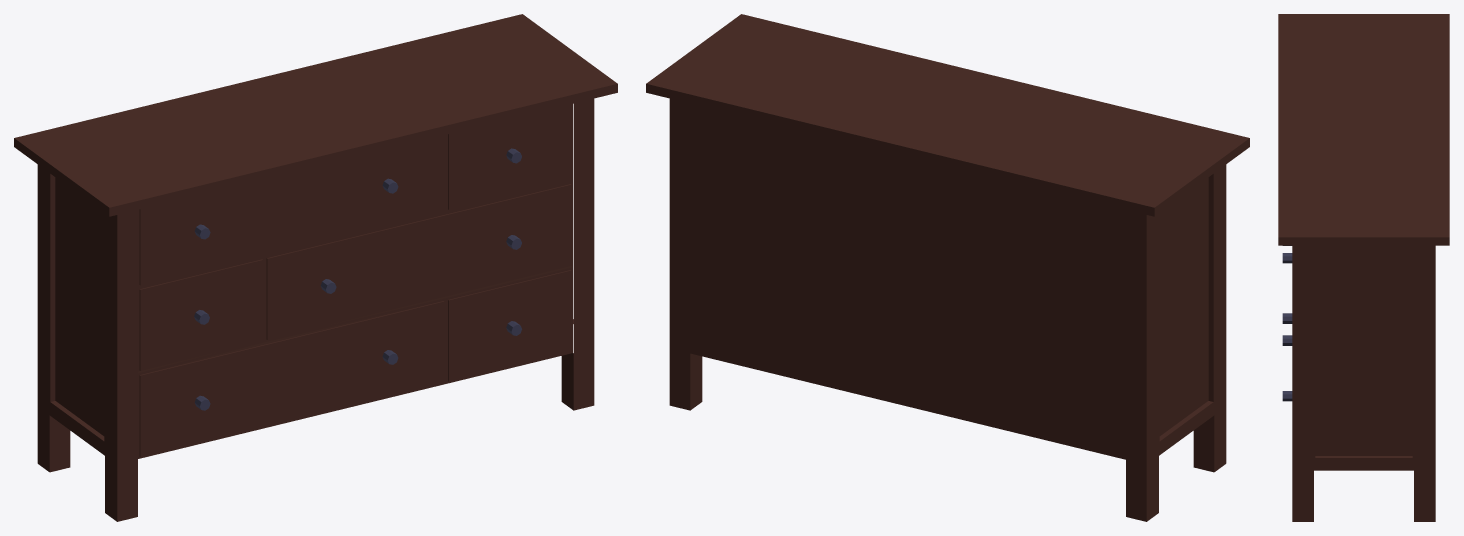
File: Dresser.glb
The picture shows the model from 3 angles, left to right: view 1: azimuth 30°, elevation 25°; view 2: azimuth 150°, elevation 25°; view 3: azimuth 270°, elevation 25°; orthographic projection. The views are drawn at different scales.
Visible parts, largest first — view 1: Dresser; view 2: Dresser; view 3: Dresser.
Part boxes in pixels (x1,y1,x2,y2): Dresser: (14,14,617,521); Dresser: (646,14,1249,521); Dresser: (1278,14,1449,521).
Size of the model in its own units: 1.03 by 0.6256 by 0.3338.
Materials: 1 (1 with a texture image).
